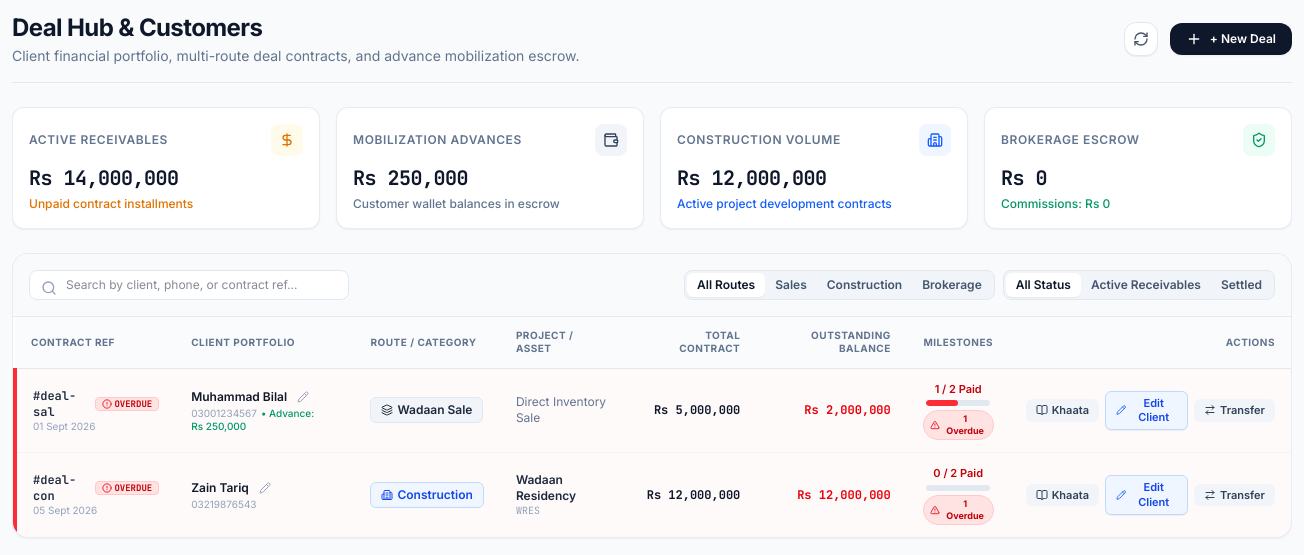
Test: Screen 8: Deal Hub & Customer Portfolio (DealHubPage) › 4. filters deals table when typing into the search box
This screenshot has width=1304, height=555.
In the field with test id "deal-search-input": point(189, 285) x1=29 y1=270 x2=349 y2=300, type "Bilal"
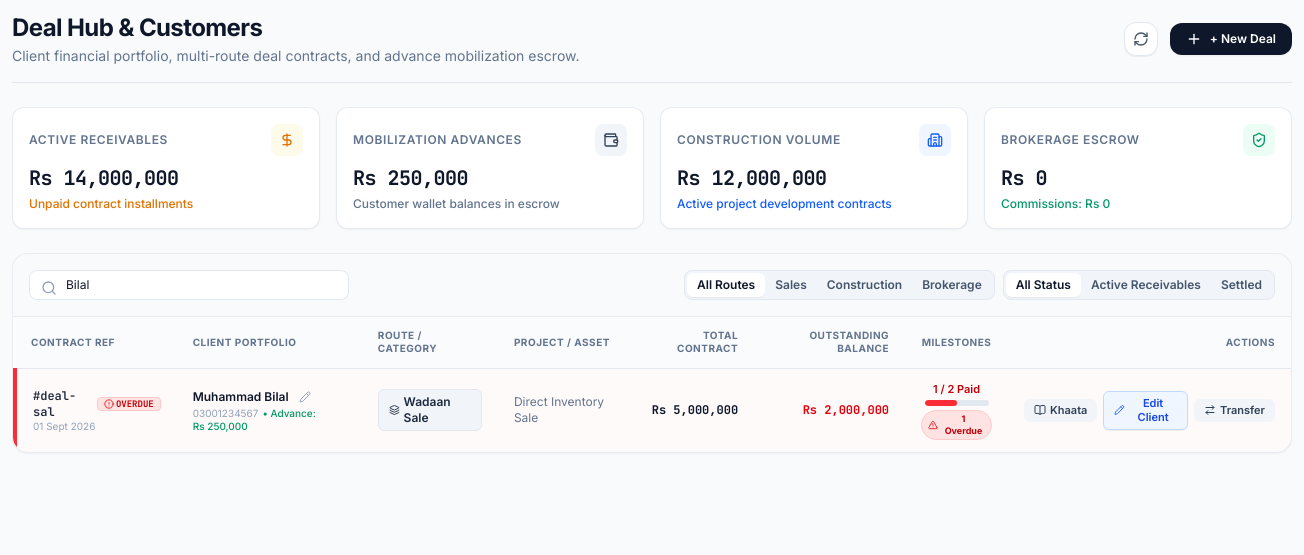
Expected: the row with test id "deal-row-deal-sale-1" is shown, x1=15 y1=368 x2=1291 y2=452
Now the row with test id "deal-row-deal-const-1" is gone
